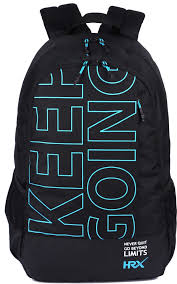backpack: (4, 2, 176, 282)
